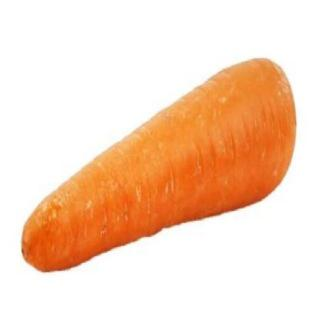carrot: (18, 52, 298, 274)
